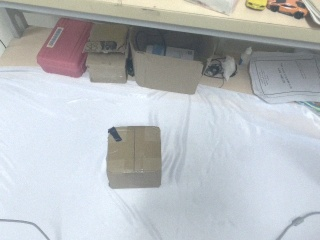box: (127, 27, 211, 95), (106, 125, 163, 190), (35, 15, 86, 79), (83, 23, 131, 85)
toy_car: (267, 1, 320, 30), (266, 1, 309, 20), (245, 1, 268, 12)
